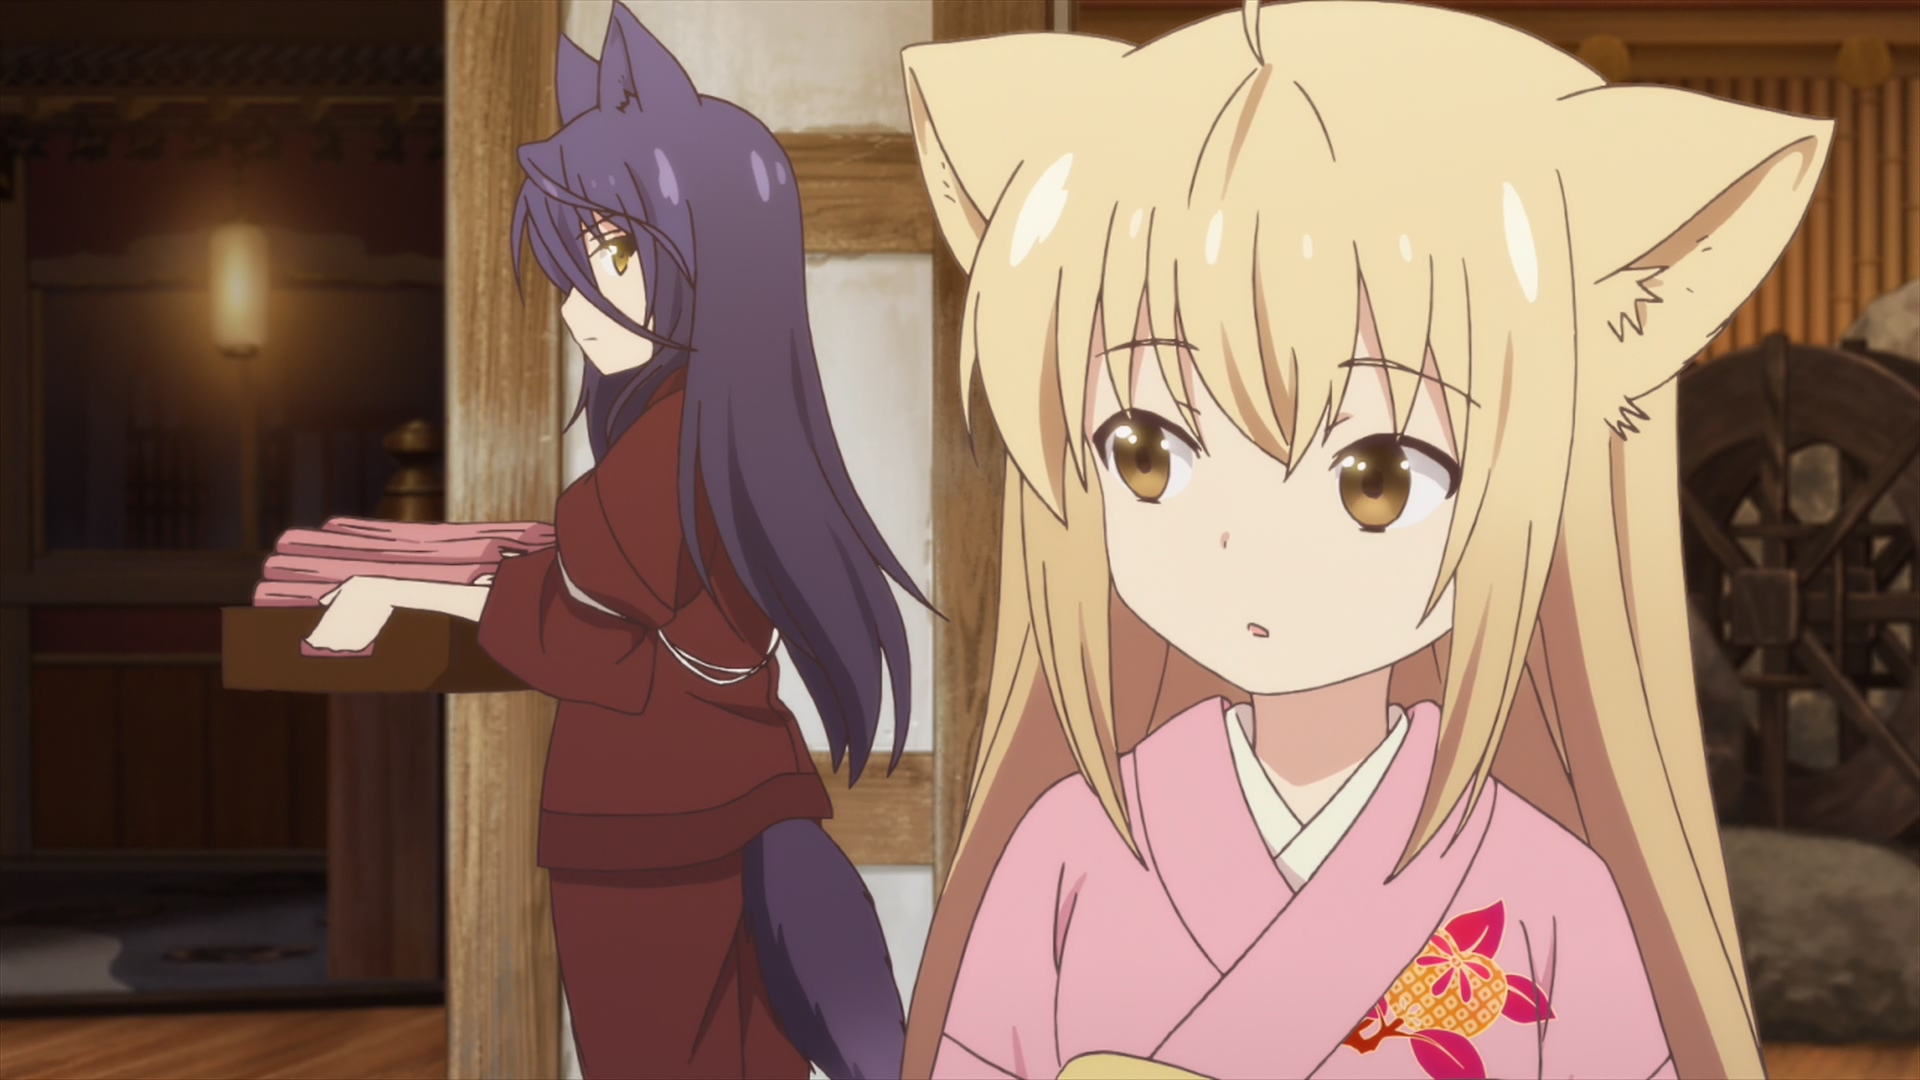柚: (898, 1, 1834, 1080)
皋: (307, 1, 945, 1080)
